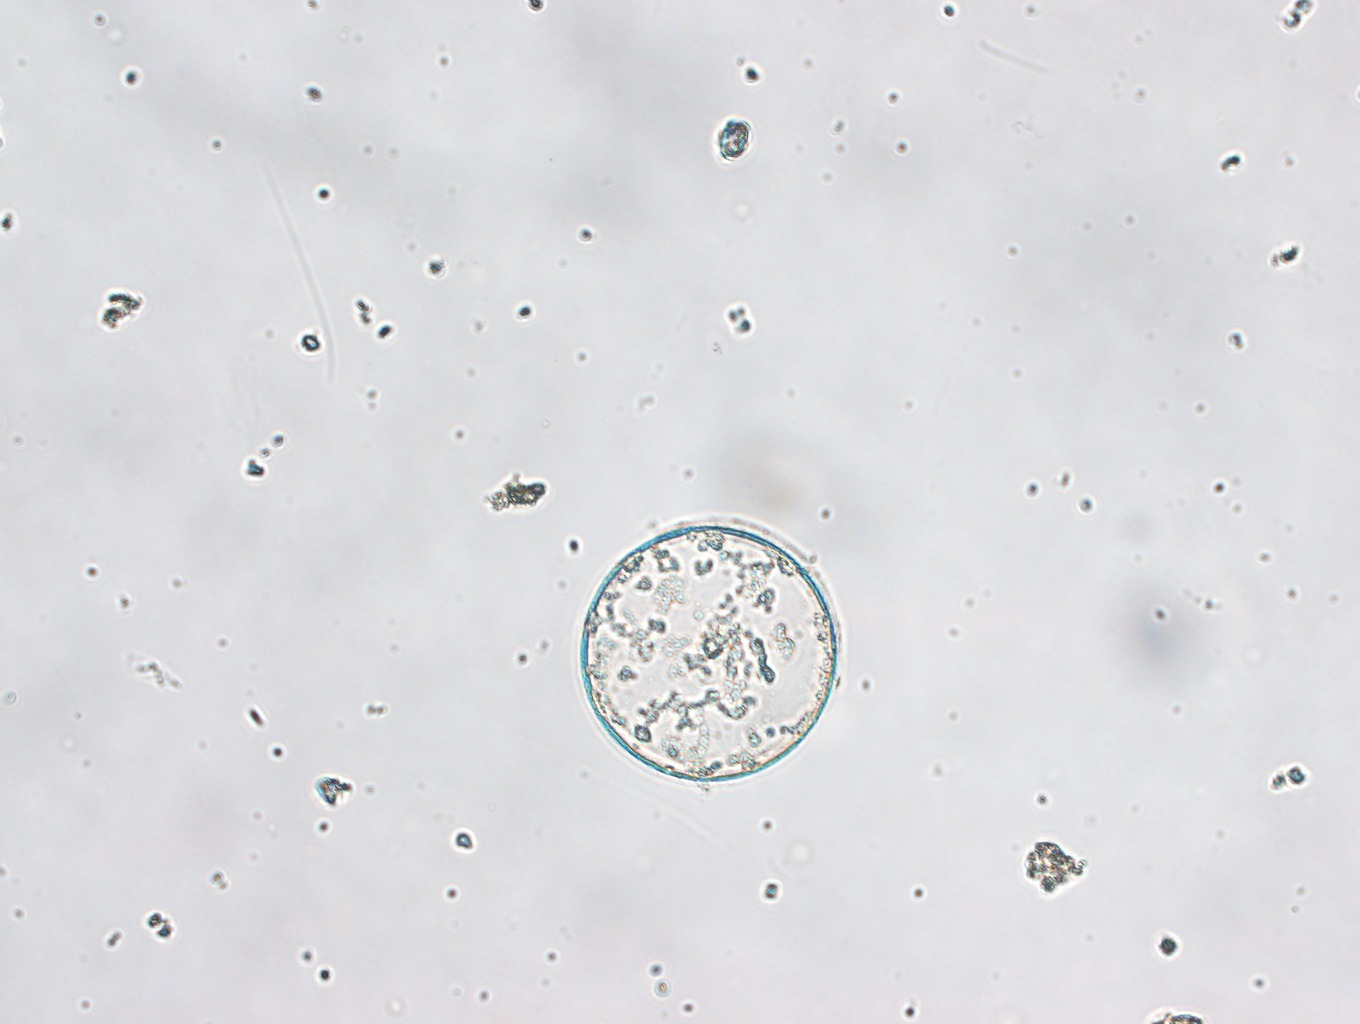coscinodiscus: (583, 518, 848, 785)
